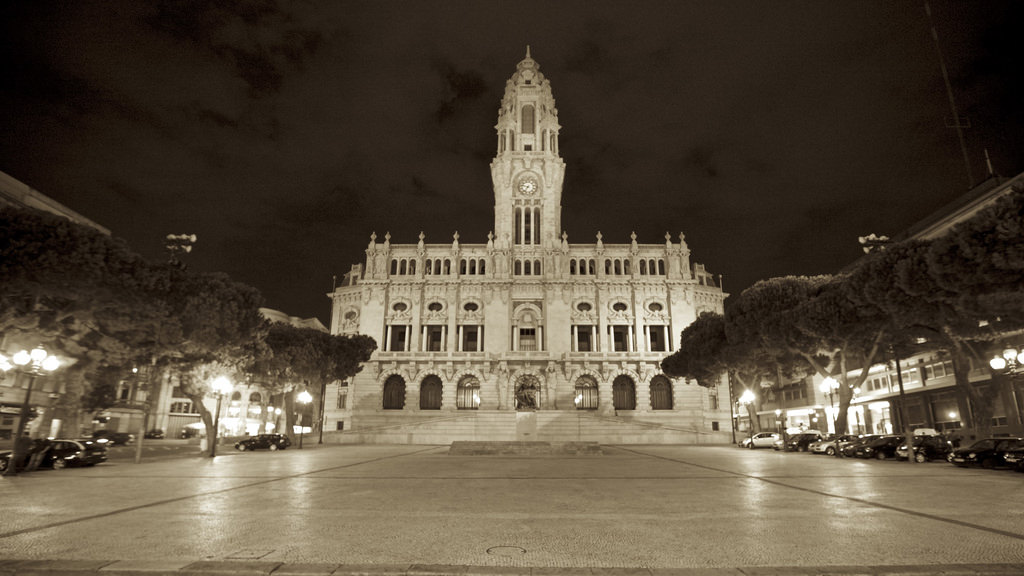camara: (322, 45, 735, 431)
